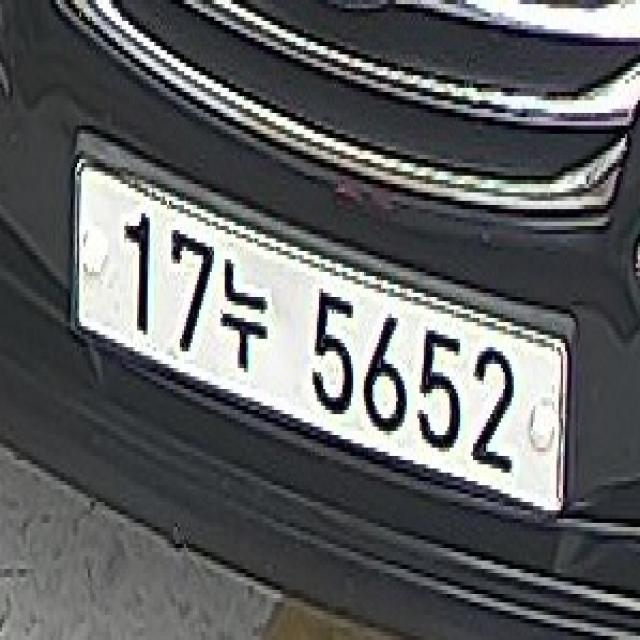1: (118, 196, 156, 352)
2: (471, 335, 516, 481)
5: (308, 276, 356, 423), (418, 318, 464, 460)
6: (362, 301, 411, 435)
7: (163, 213, 216, 360)
license_plate: (68, 134, 578, 531)
nu: (218, 238, 272, 380)
